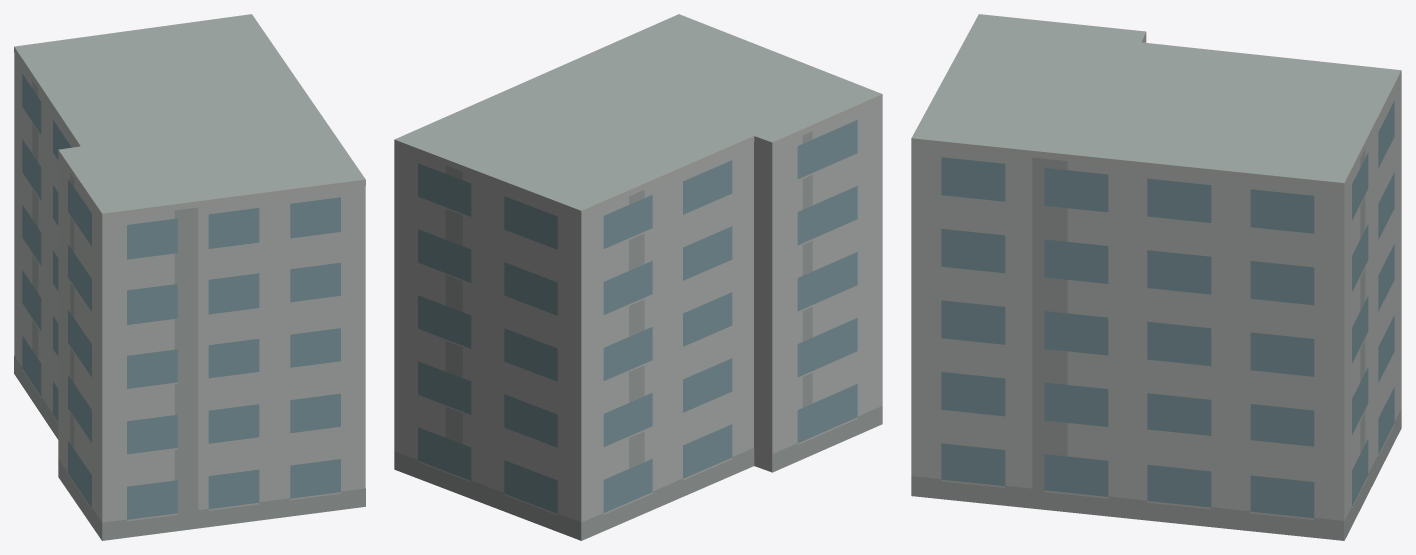
The model's file is survey-upis-32956505.glb.
3 views of the same model, side by side, from view 1: azimuth 30°, elevation 25°; view 2: azimuth 150°, elevation 25°; view 3: azimuth 270°, elevation 25° (orthographic). The views are drawn at different scales.
Parts seen in each view (by area): view 1: survey-upis-32956505.tmp; view 2: survey-upis-32956505.tmp; view 3: survey-upis-32956505.tmp.
Part boxes in pixels (bbox=[...]): survey-upis-32956505.tmp: bbox=[14, 14, 365, 540]; survey-upis-32956505.tmp: bbox=[394, 14, 882, 540]; survey-upis-32956505.tmp: bbox=[911, 14, 1401, 540].
Bounding box in the file's own units: 13.19 × 13 × 16.15.
